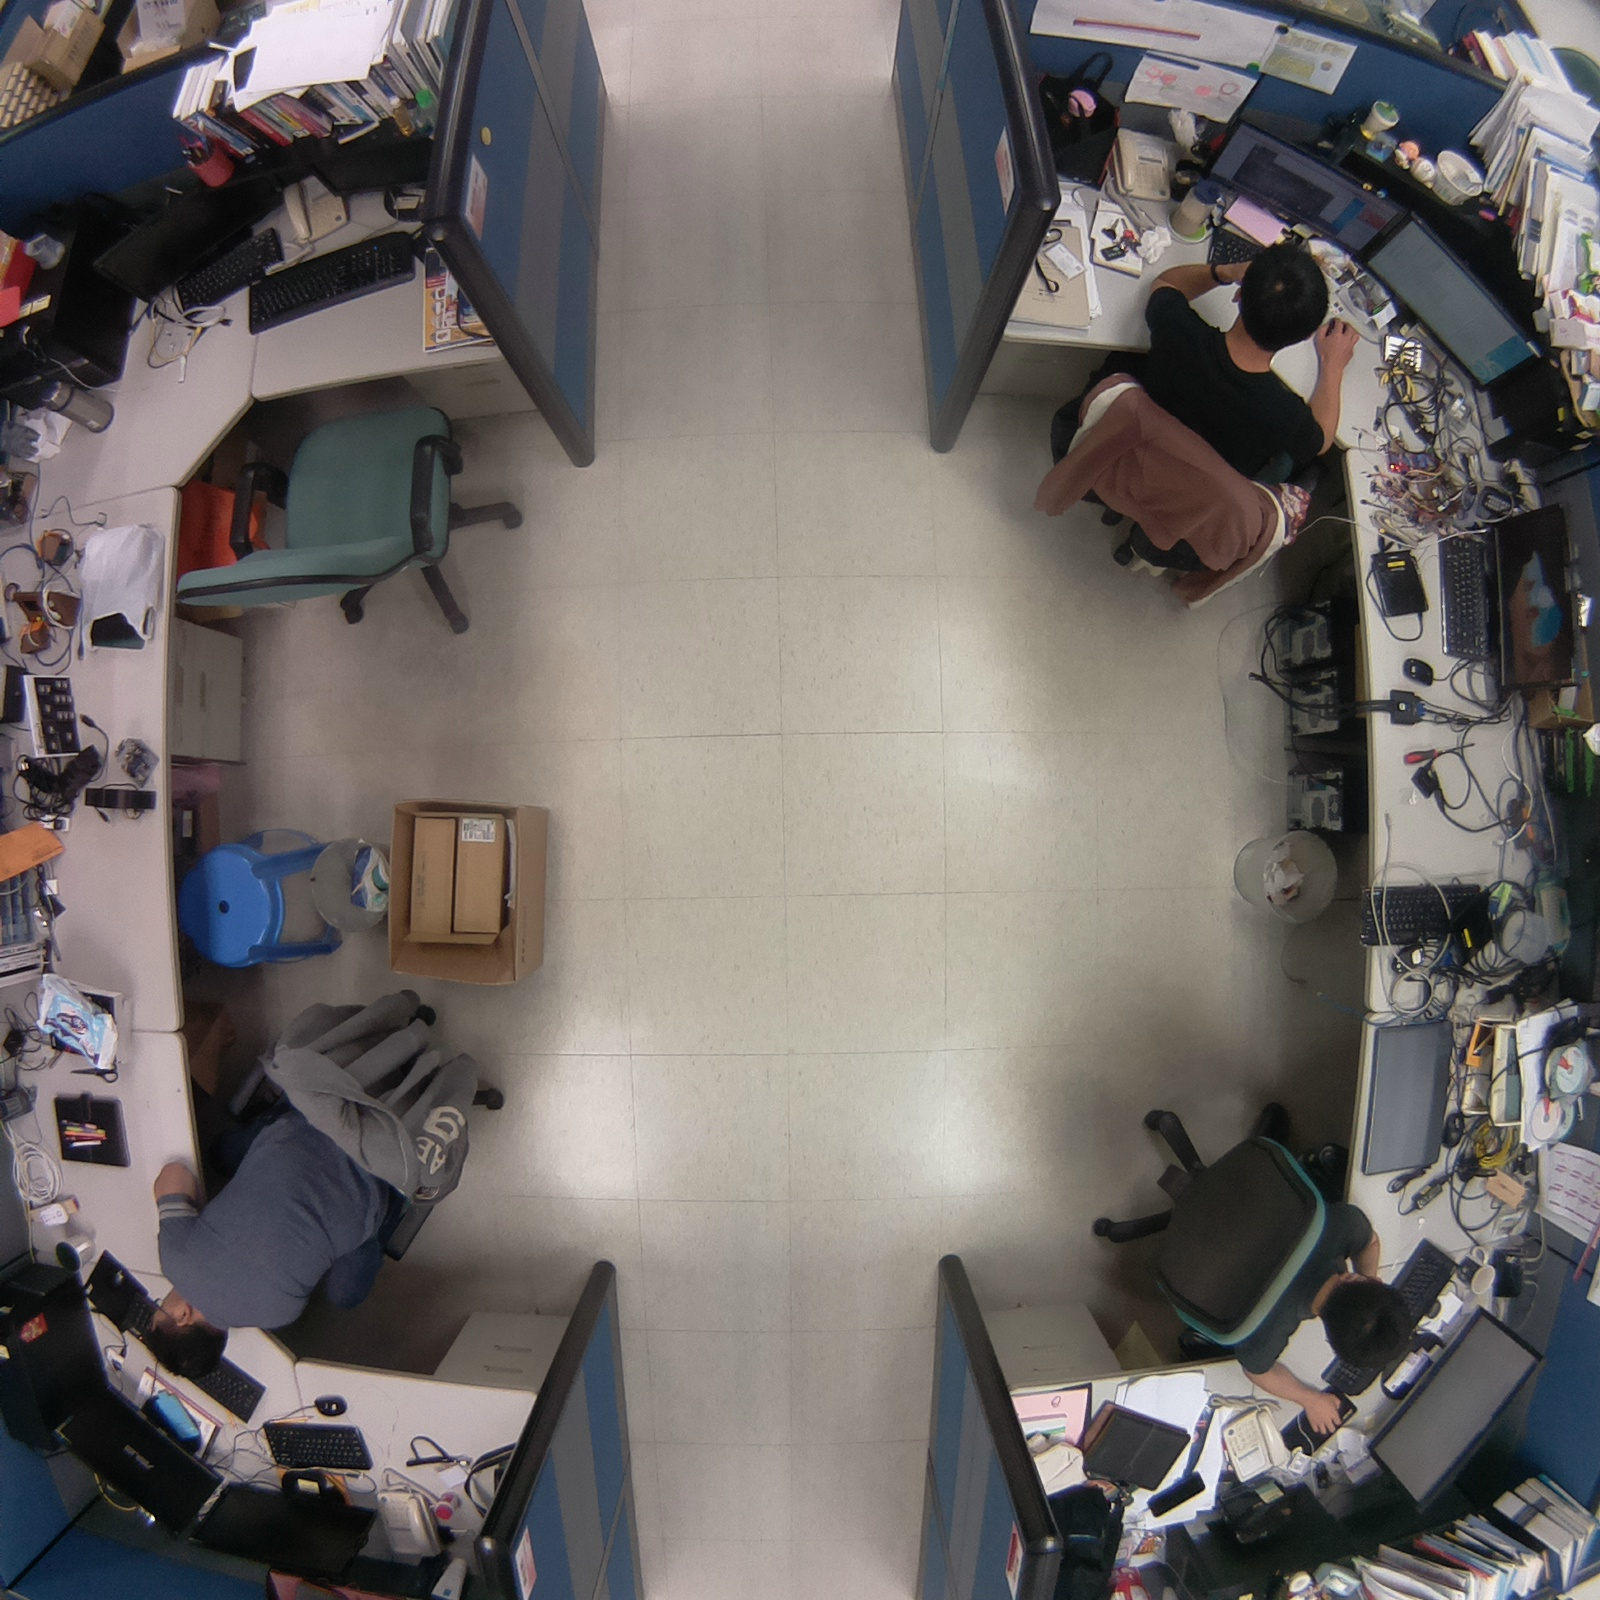chair: (163, 365, 547, 663)
head: (1227, 239, 1339, 355), (1319, 1271, 1419, 1378), (137, 1296, 235, 1386)
sitting: (132, 970, 517, 1396), (1024, 240, 1366, 627), (1083, 1078, 1426, 1443)
